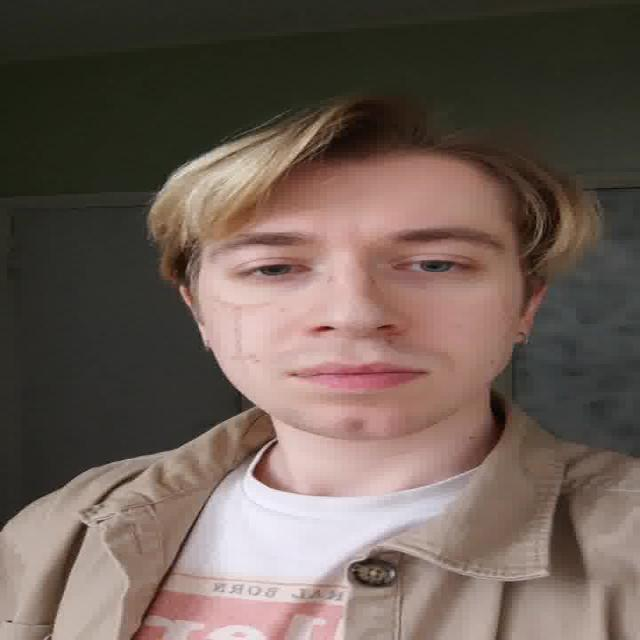earlobe: (514, 322, 534, 346)
eye: (399, 257, 474, 277), (241, 260, 310, 280)
nose: (305, 326, 407, 363)
wholeear: (514, 281, 548, 346)
